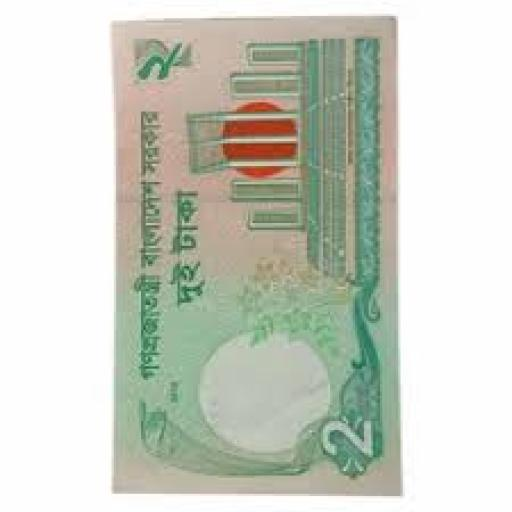2taka: (114, 20, 396, 494)
